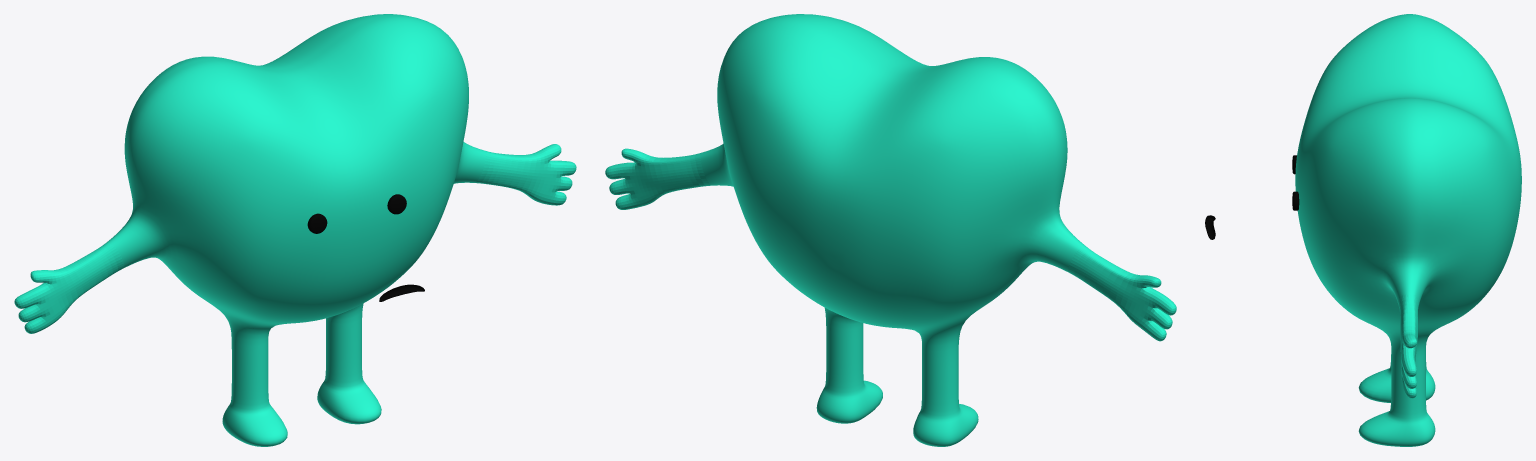
The model's file is ch3_sad.fbx.
3 renders of one model, left to right at view 1: azimuth 30°, elevation 25°; view 2: azimuth 150°, elevation 25°; view 3: azimuth 270°, elevation 25°, orthographic. The views are drawn at different scales.
Visible parts, largest first — view 1: 물아기.001; view 2: 물아기.001; view 3: 물아기.001.
Boxes of the visible parts, <box> form: 물아기.001: <box>14,14,576,446</box>; 물아기.001: <box>605,14,1176,446</box>; 물아기.001: <box>1205,14,1521,446</box>.
Bounding box in the file's own units: 174 × 112 × 90.59.
